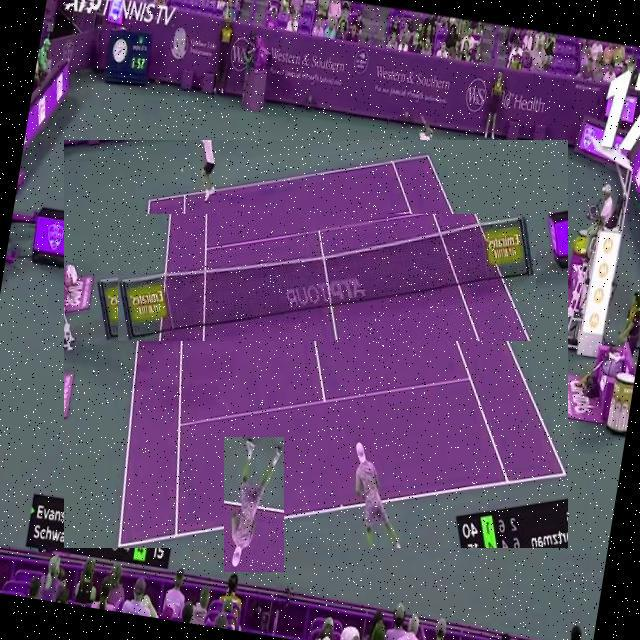court: (64, 140, 568, 548)
net: (118, 214, 536, 341)
player: (224, 437, 284, 572)
